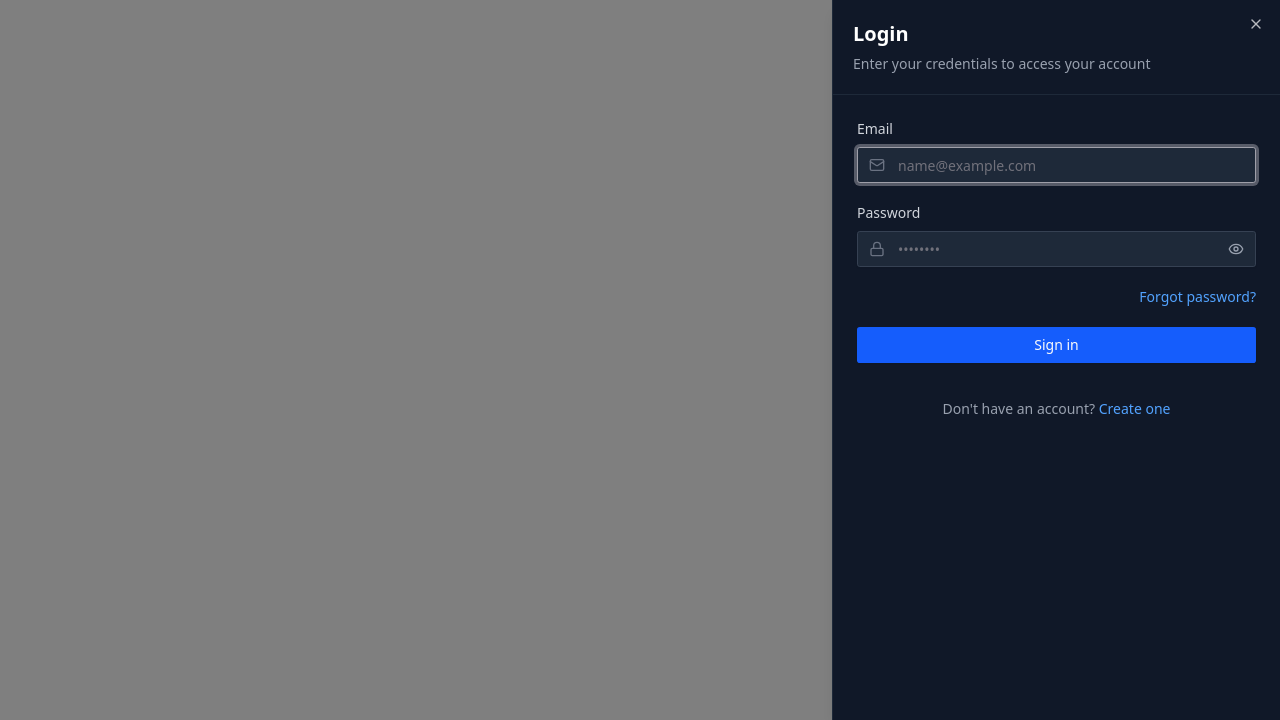
AuthSheet › switches to sign up form on "Create one"
What coordinates should you click on to do the following:
click the button "Create one"
I would click on:
 (1135, 409)
Its box is [1099,399,1170,419].
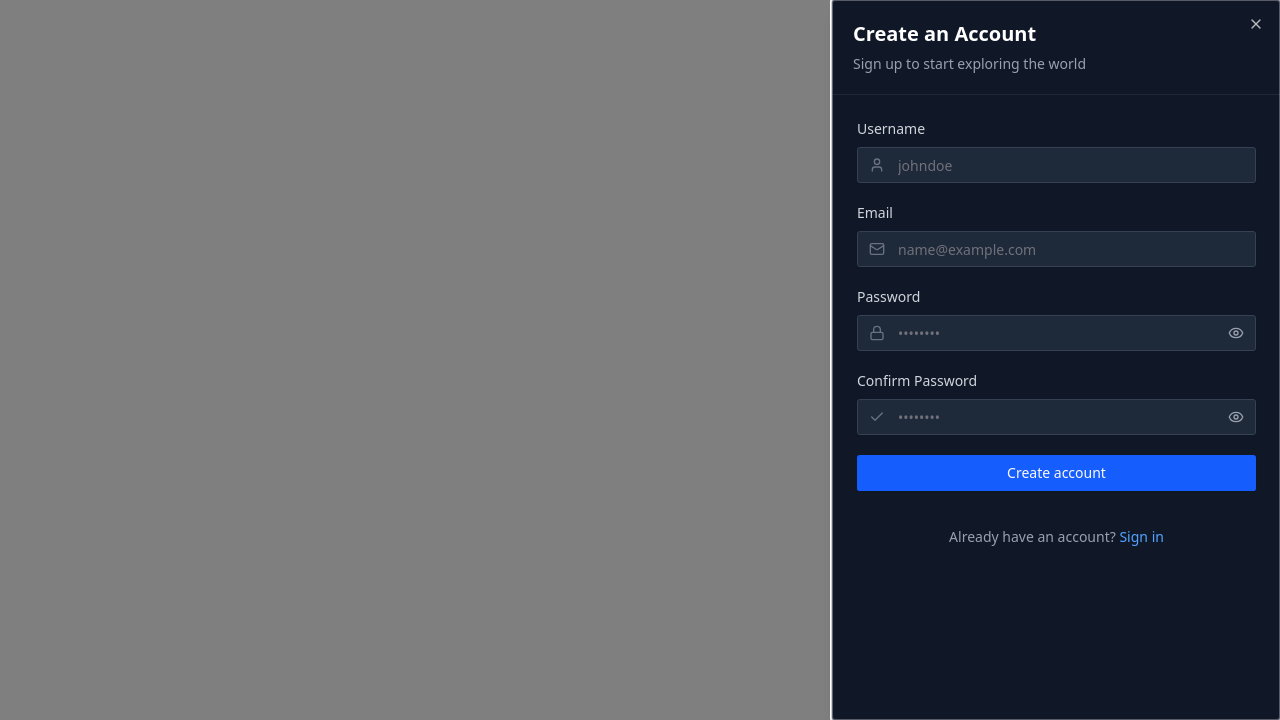
Now the heading "Create an Account" is shown, box [853,20,1036,47]
Now the field labelled "Username" is shown, box [857,147,1256,183]
